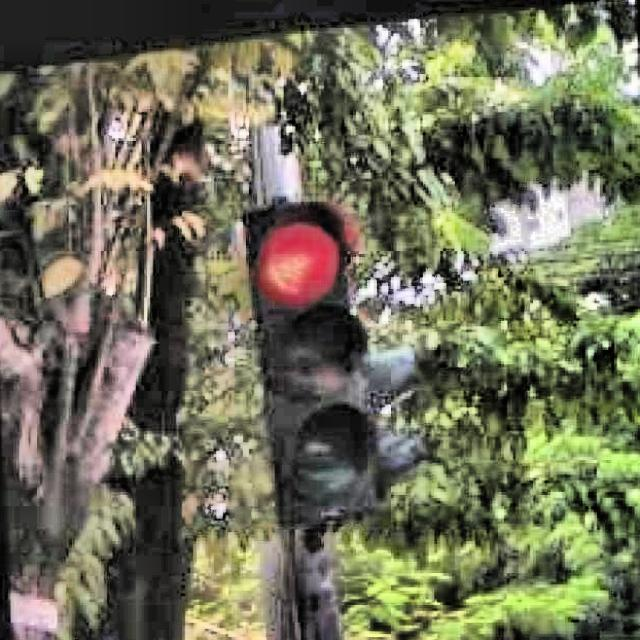red: (248, 199, 370, 503)
